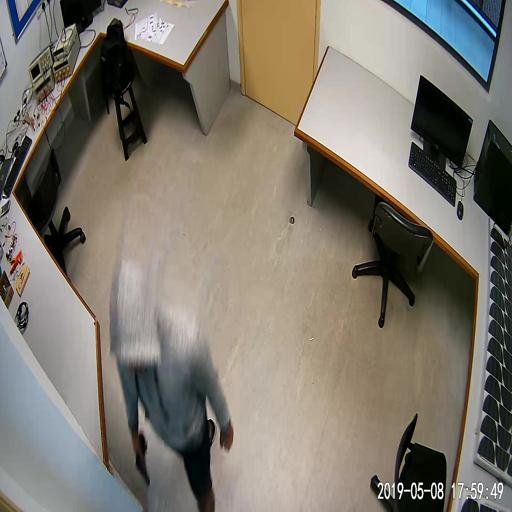pistol: (134, 431, 150, 486)
